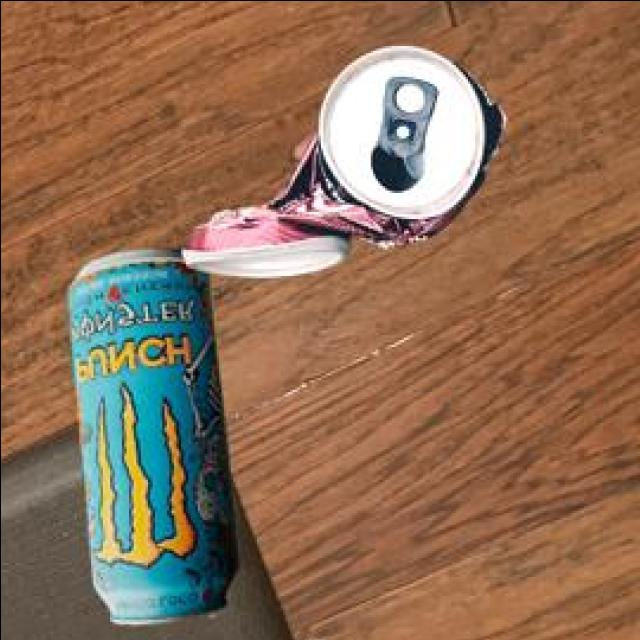logam: (179, 49, 501, 279), (65, 252, 233, 627)
